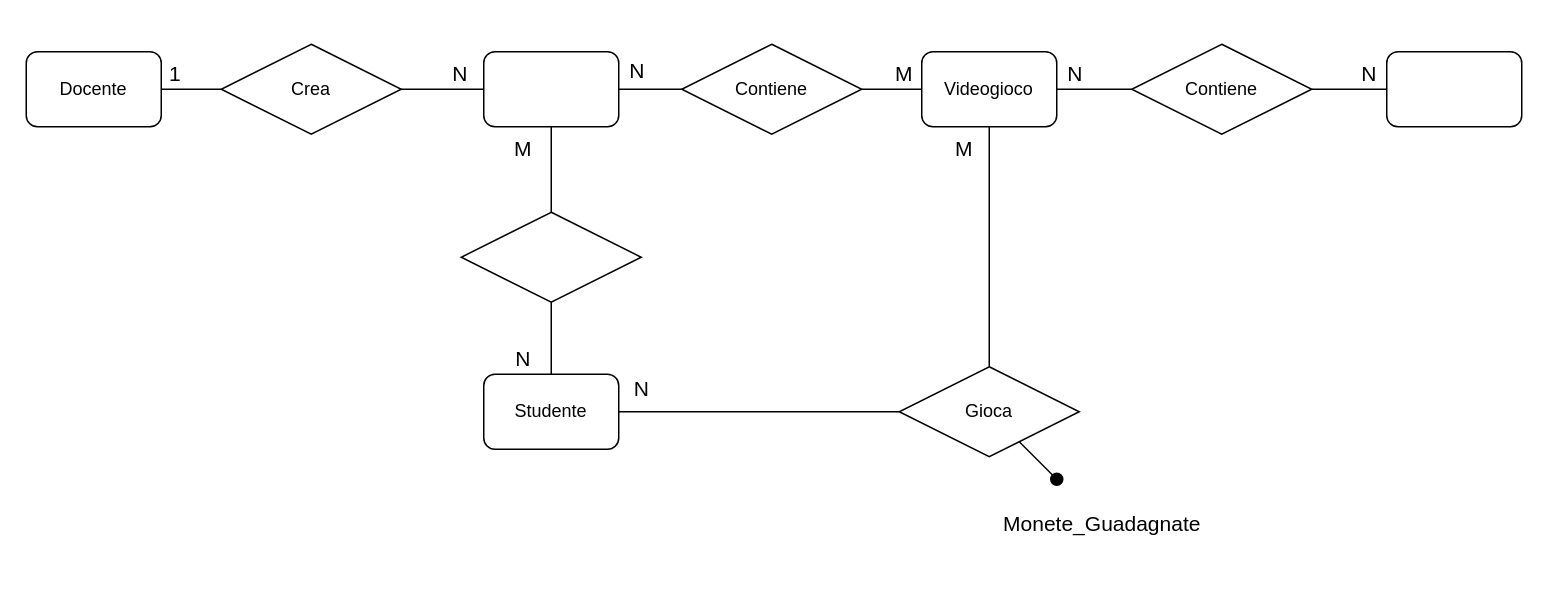
Image size: 1548x594. Some labels were removed from this diagram. The centre of each missing label's shape, as x and y in pixels:
Argomenti: (x=1453, y=88)
Classe Virtuale: (x=550, y=88)
Iscrive: (x=550, y=256)
